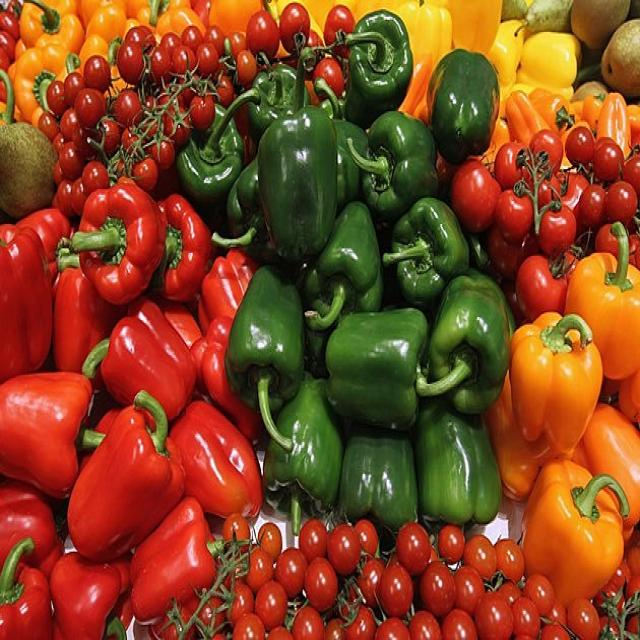bell pepper: (74, 414, 177, 530), (522, 453, 611, 576), (514, 313, 592, 447), (263, 114, 331, 245), (336, 310, 415, 420), (432, 277, 497, 408), (3, 371, 74, 490), (182, 404, 255, 509), (238, 283, 298, 398), (109, 312, 188, 399), (0, 227, 50, 364), (573, 258, 640, 354), (276, 392, 336, 498), (137, 517, 211, 600), (349, 432, 417, 516), (80, 198, 149, 278), (350, 16, 410, 106), (431, 52, 485, 140), (328, 206, 372, 308), (56, 558, 118, 624), (164, 197, 203, 301), (368, 123, 422, 198), (1, 557, 46, 640), (402, 208, 441, 292)
